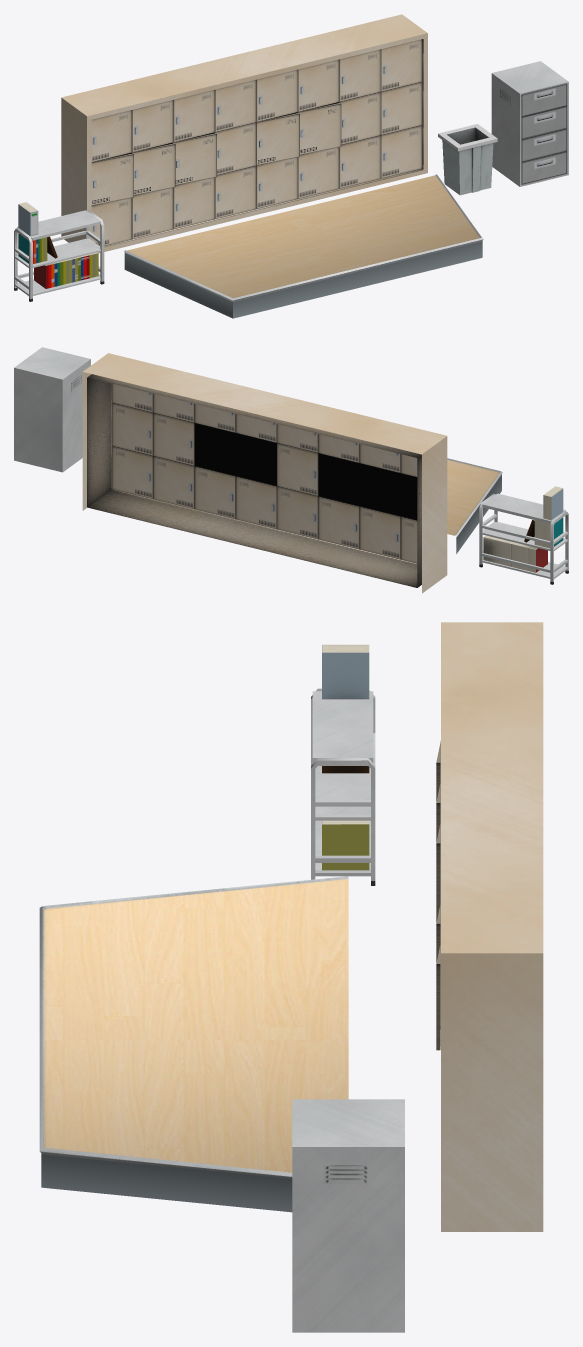
File: prop_sch_furniture_2.fbx
The picture shows the model from 3 angles, top to bottom: view 1: azimuth 30°, elevation 25°; view 2: azimuth 150°, elevation 25°; view 3: azimuth 270°, elevation 25°; orthographic projection. The views are drawn at different scales.
Visible parts, largest first — view 1: prop_sch_squareLockers, prop_sch_Podium, prop_sch_4towercabinets, prop_sch_minitable_Steel, prop_sch_sampathangx, prop_sch_minitable_Book1; view 2: prop_sch_squareLockers, prop_sch_4towercabinets, prop_sch_minitable_Steel, prop_sch_Podium, prop_sch_minitable_Book1; view 3: prop_sch_Podium, prop_sch_squareLockers, prop_sch_4towercabinets, prop_sch_minitable_Steel, prop_sch_minitable_Book1.
Boxes of the visible parts, box(x1,y1,x2,y2) form: prop_sch_squareLockers: box(61, 14, 427, 253); prop_sch_Podium: box(124, 174, 483, 318); prop_sch_4towercabinets: box(491, 61, 568, 186); prop_sch_minitable_Steel: box(14, 210, 104, 301); prop_sch_sampathangx: box(438, 124, 497, 195); prop_sch_minitable_Book1: box(18, 202, 98, 288); prop_sch_squareLockers: box(82, 353, 447, 593); prop_sch_4towercabinets: box(14, 347, 90, 472); prop_sch_minitable_Steel: box(479, 493, 568, 584); prop_sch_Podium: box(447, 458, 502, 553); prop_sch_minitable_Book1: box(483, 486, 563, 572); prop_sch_Podium: box(39, 876, 348, 1212); prop_sch_squareLockers: box(436, 622, 543, 1231); prop_sch_4towercabinets: box(292, 1099, 404, 1332); prop_sch_minitable_Steel: box(311, 688, 375, 885); prop_sch_minitable_Book1: box(322, 644, 369, 870).
Bounding box in the file's own units: 599 × 150 × 246.
